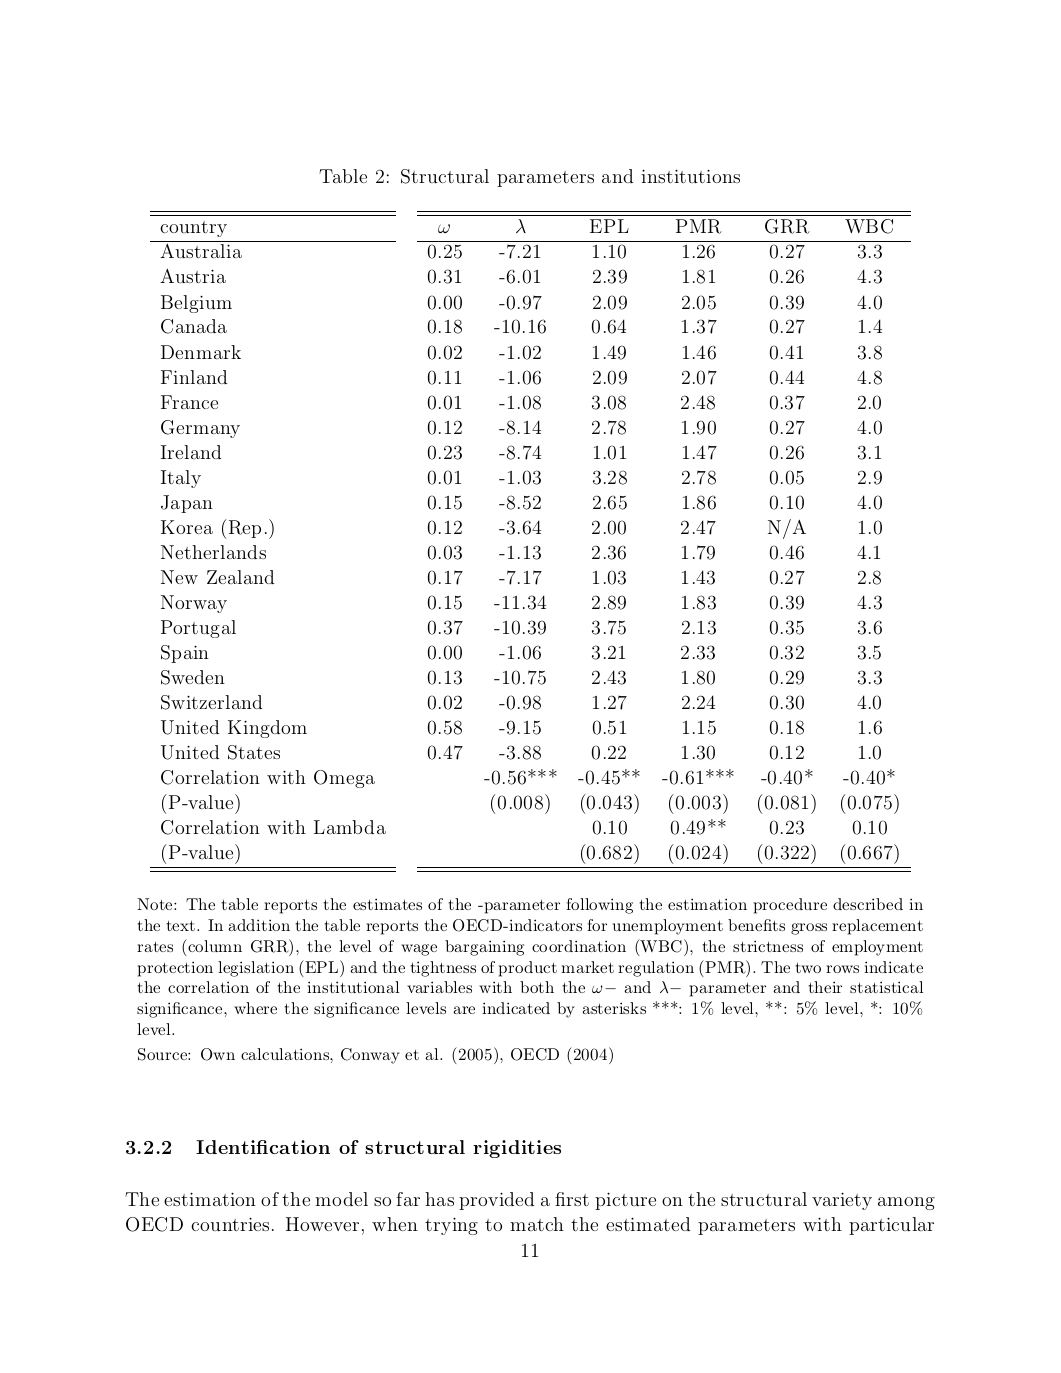Table: (150, 211, 911, 871)
